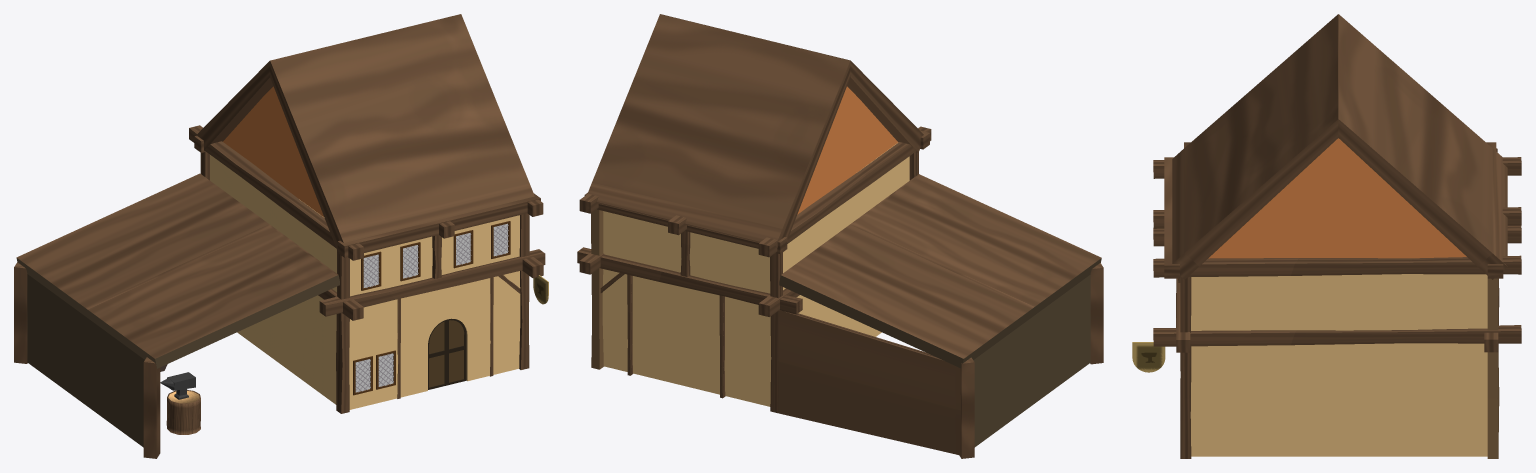
Rendered from BlackSmith House V2.fbx.
3 renders of one model, left to right at view 1: azimuth 30°, elevation 25°; view 2: azimuth 150°, elevation 25°; view 3: azimuth 270°, elevation 25°, orthographic. The views are drawn at different scales.
Visible parts, largest first — view 1: Plane.008, Cylinder, Cube.001; view 2: Plane.008; view 3: Plane.008.
Boxes of the visible parts, left/top/right/bottom form: Plane.008: left=14, top=14, right=548, bottom=458; Cylinder: left=166, top=390, right=200, bottom=434; Cube.001: left=160, top=372, right=195, bottom=399; Plane.008: left=577, top=14, right=1103, bottom=458; Plane.008: left=1132, top=14, right=1521, bottom=458.
Size of the model in its own units: 20.9 by 15.42 by 15.88.
